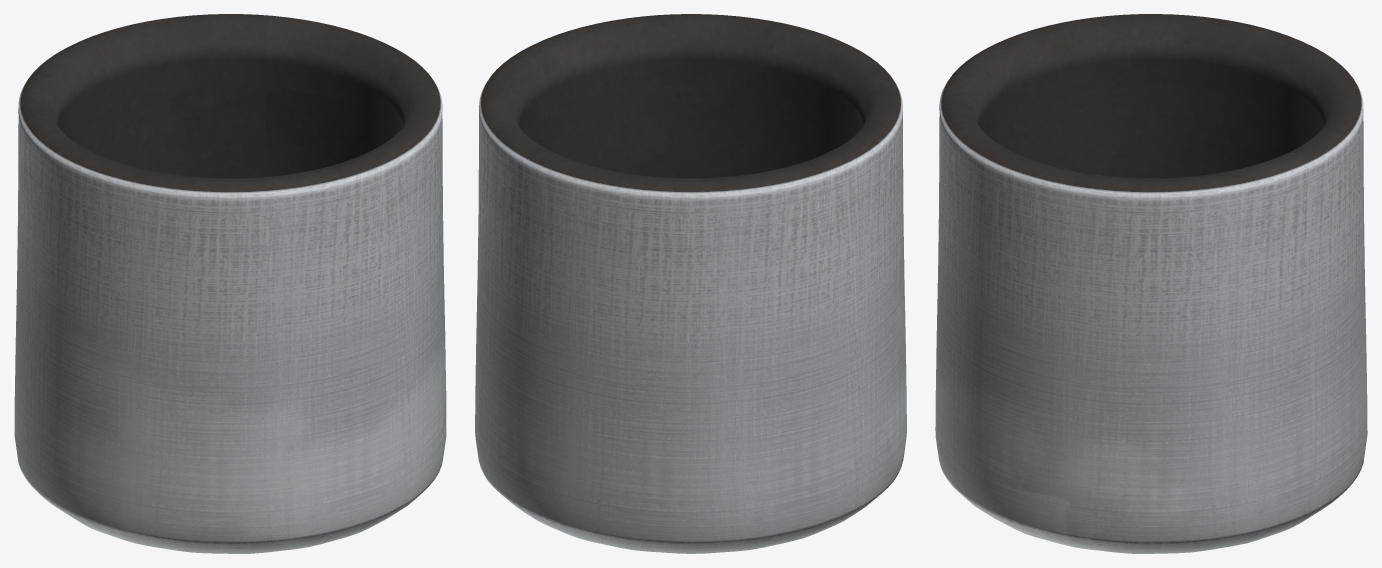
File: planter_B075HR7LHQ.glb
3 renders of one model, left to right at view 1: azimuth 30°, elevation 25°; view 2: azimuth 150°, elevation 25°; view 3: azimuth 270°, elevation 25°, orthographic.
Parts seen in each view (by area): view 1: RootNode; view 2: RootNode; view 3: RootNode.
Part boxes in pixels (<box>): RootNode: <box>14,14,446,553</box>; RootNode: <box>475,14,906,553</box>; RootNode: <box>935,14,1367,553</box>.
Bounding box in the file's own units: 0.1603 × 0.1555 × 0.1603.
1 material, 1 textured.
